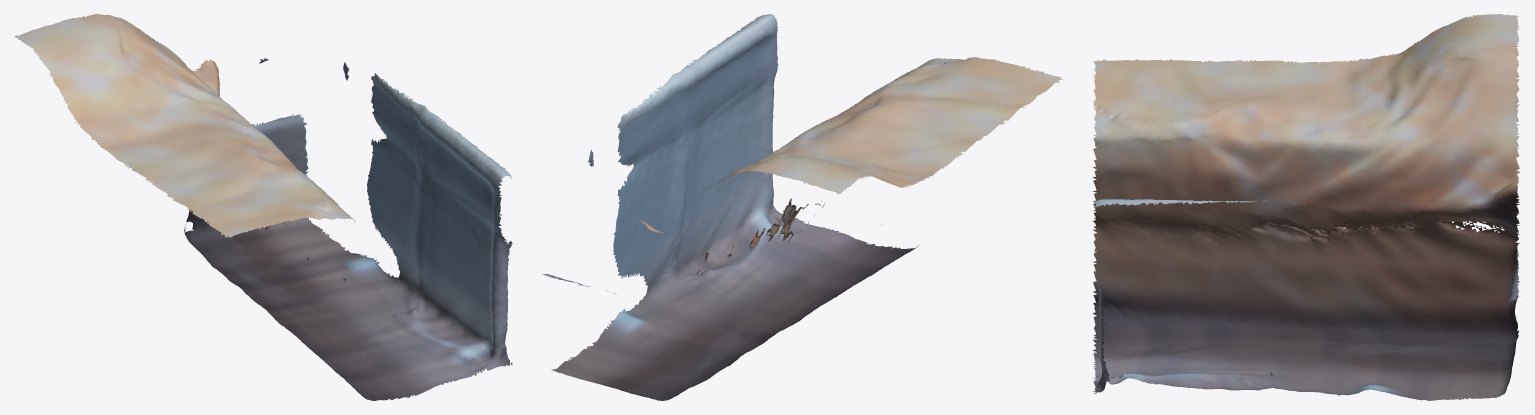
The model's file is apartment-full-44-b73c55093a6f.glb.
3 views of the same model, side by side, from view 1: azimuth 30°, elevation 25°; view 2: azimuth 150°, elevation 25°; view 3: azimuth 270°, elevation 25° (orthographic). The views are drawn at different scales.
Bounding box in the file's own units: 0.773 × 0.647 × 0.997.
